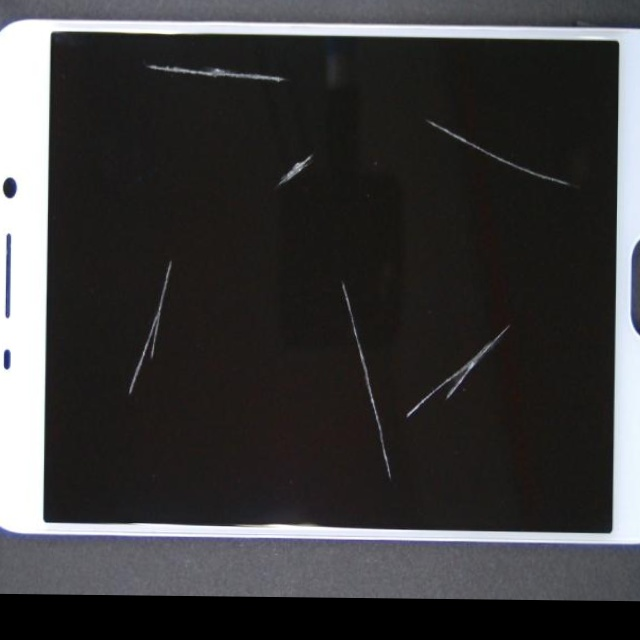scratch: (287, 91, 640, 513), (32, 194, 206, 596), (154, 90, 497, 233), (216, 16, 382, 95)
